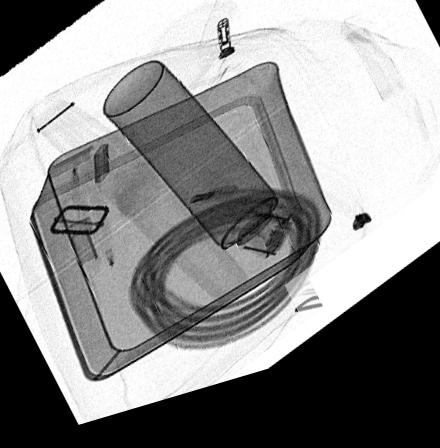Sprayer: (103, 68, 300, 287)
